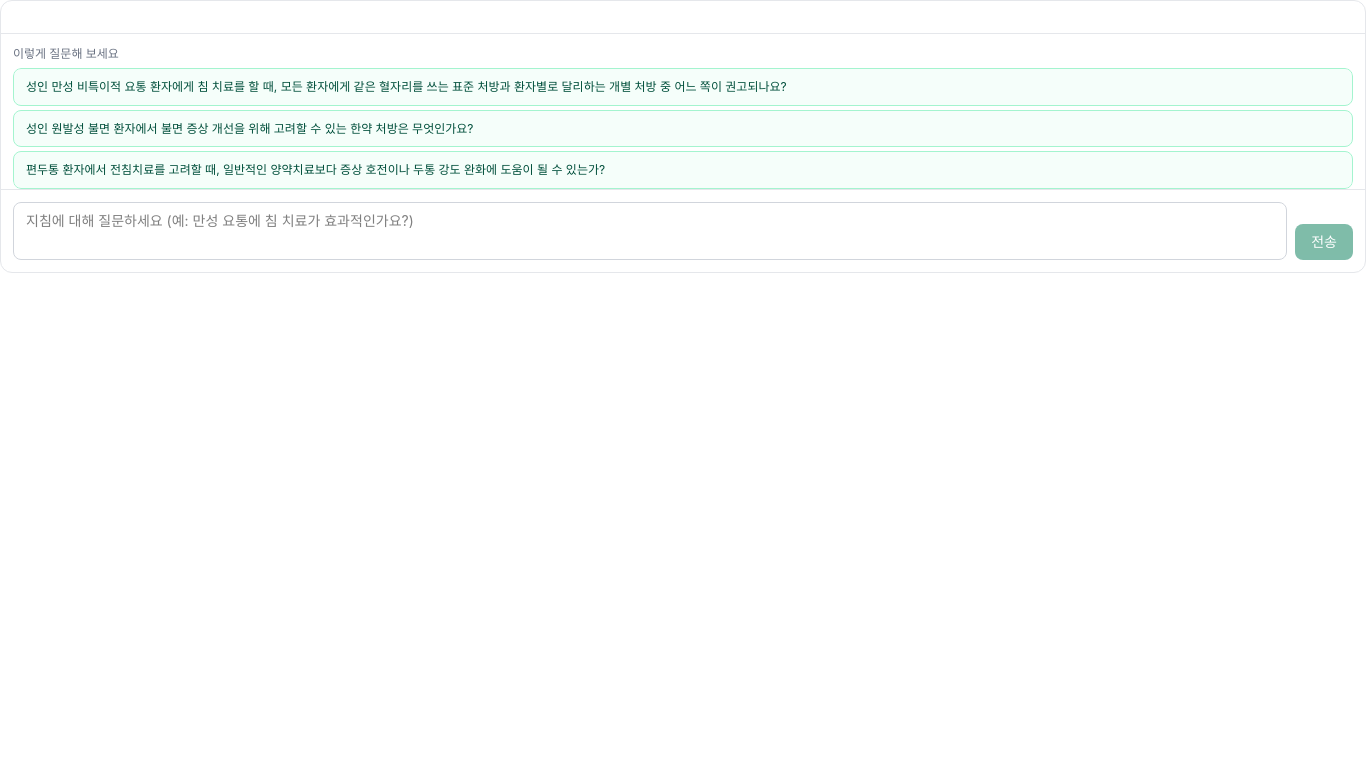
Test case: 기준 7 (§54 기준 48 대체): GUIDELINE_QA 완료 이벤트 뒤 카드 안에 답변 전문이 있고 카드 밖에는 그 본문이 없다
Expected: the text "이렇게 질문해 보세요" is shown, left=13, top=46, right=119, bottom=61
Type "합성진단-54a 기록의 검토 항목을 정리해 주세요." into the text box named "질문 입력". click: (650, 230)
box: left=13, top=202, right=1287, bottom=260
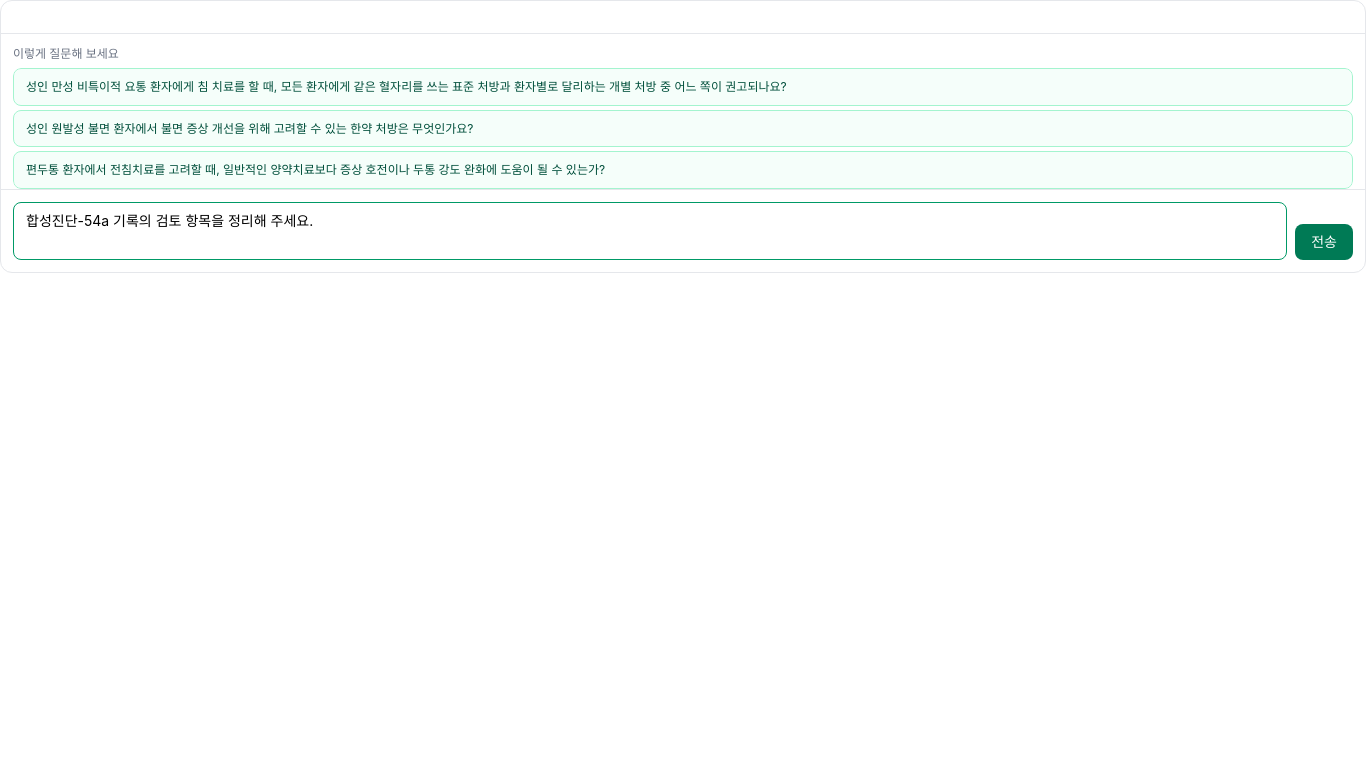
Click the button "전송". click: (1324, 242)
box: left=1295, top=224, right=1353, bottom=260
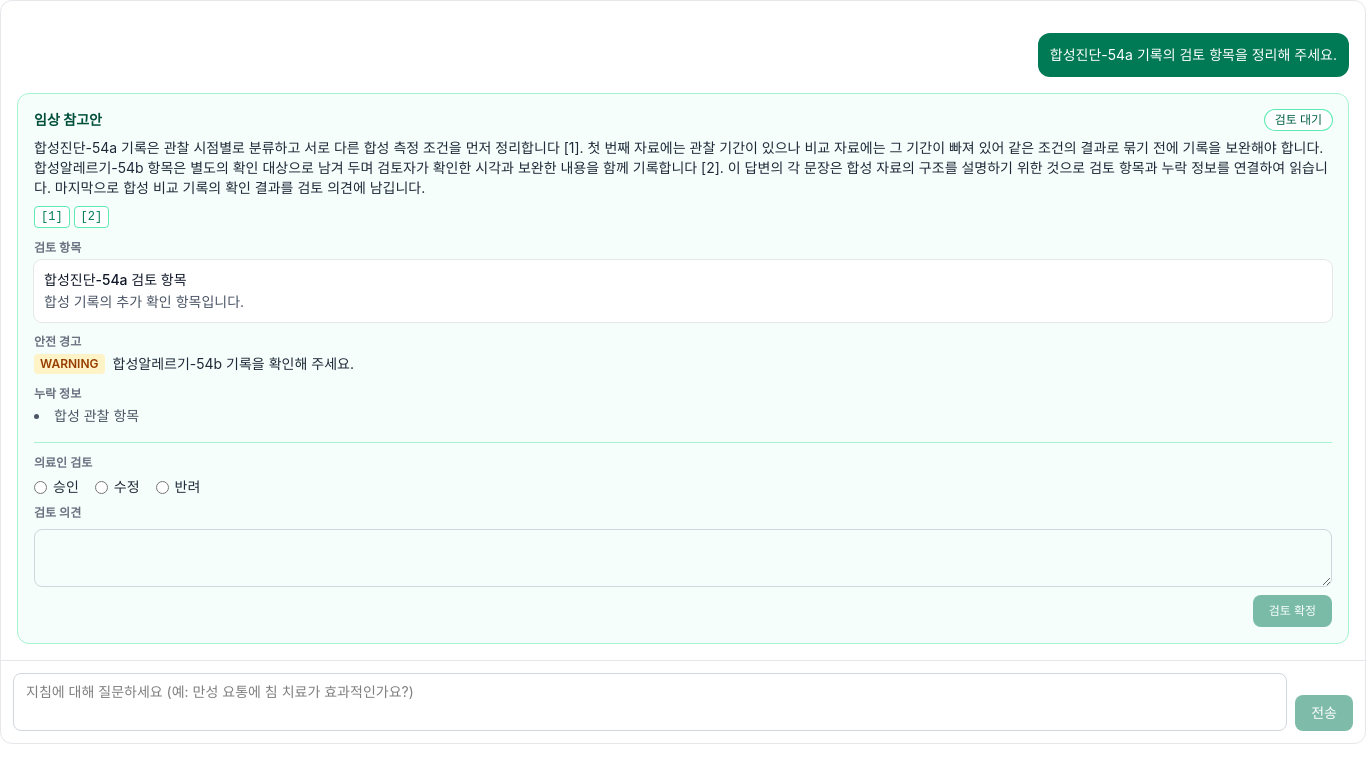
Now the heading "임상 참고안" is shown, box left=34, top=110, right=102, bottom=130
Now the text "합성진단-54a 기록은 관찰 시점별로 분류하고 서로 다른 합성 측정 조건을 먼저 정리합니다 [1]. 첫 번째 자료에는 관찰 기간이 있으나 비교 자료에는 그 기간이 빠져 있어 같은 조건의 결과로 묶기 전에 기록을 보완" is shown, box left=34, top=139, right=1328, bottom=196
Now the text "합성진단-54a 기록은 관찰 시점별로 분류하고 서로 다른 합성 측정 조건을 먼저 정리합니다 [1]. 첫 번째 자료에는 관찰 기간이 있으나 비교 자료에는 그 기간이 빠져 있어 같은 조건의 결과로 묶기 전에 기록을 보완" is shown once, box left=34, top=138, right=1332, bottom=198
